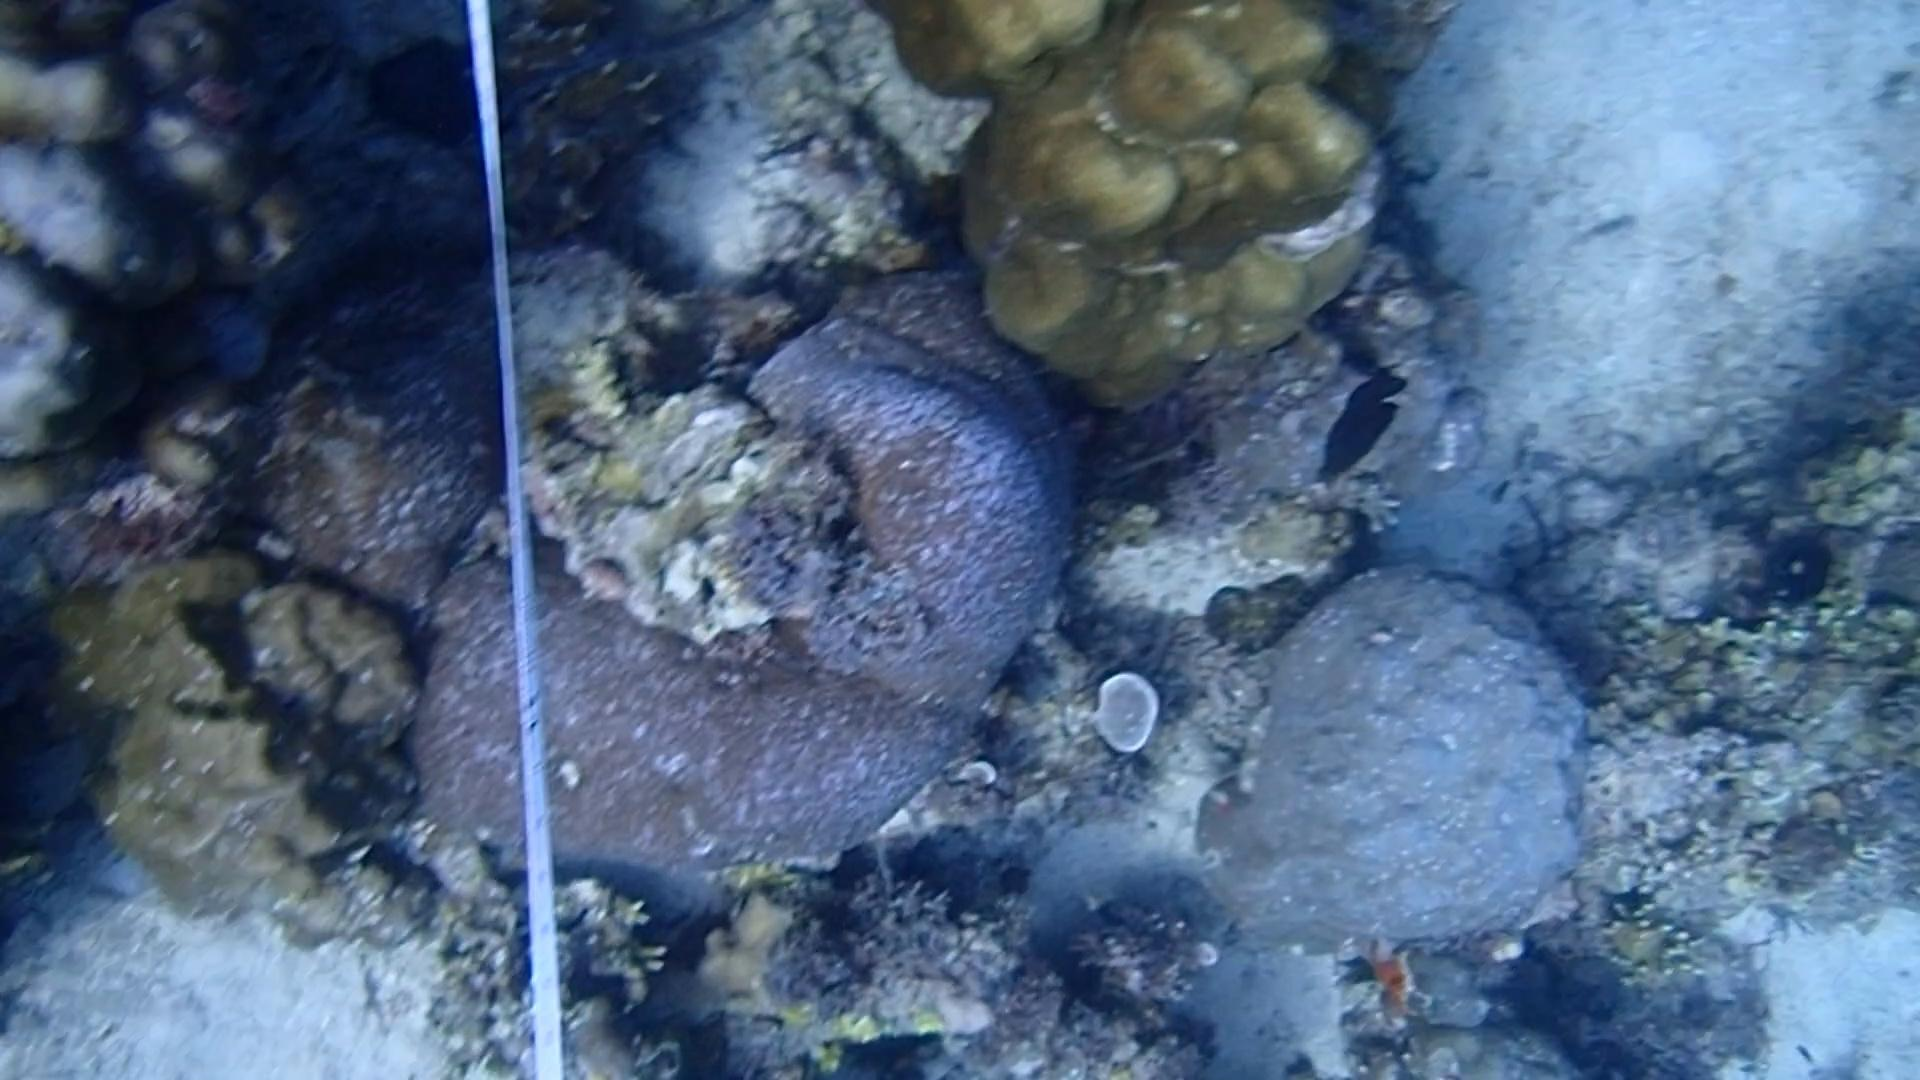Dark Fish: (1305, 361, 1418, 489)
